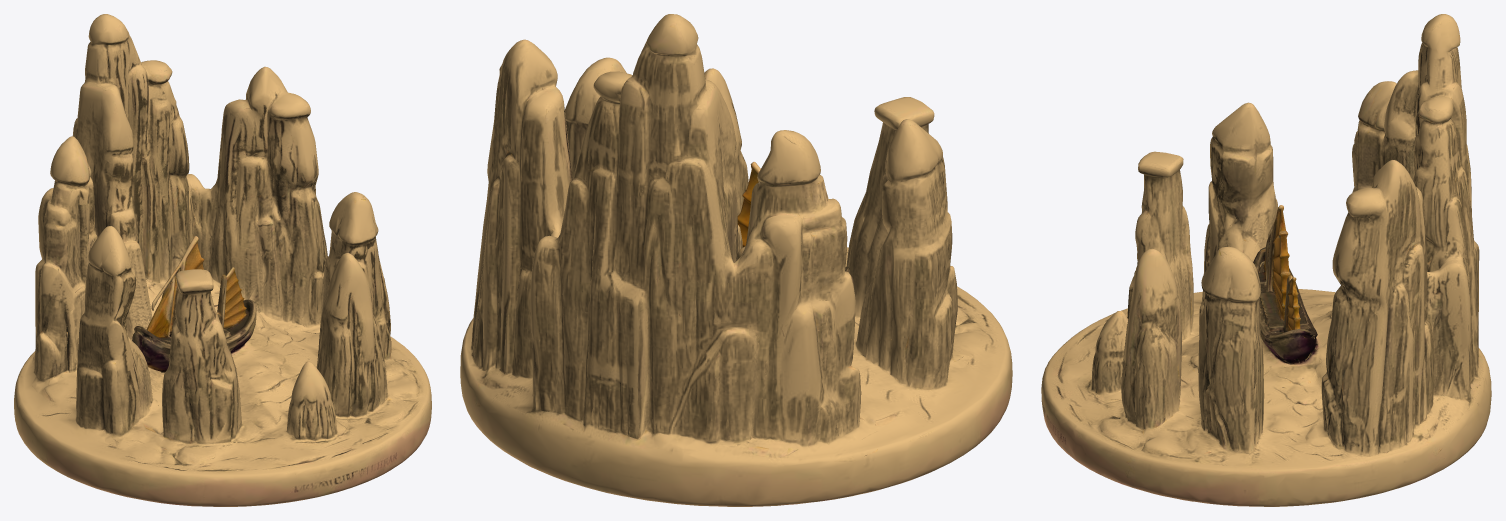
The model's file is halong_bay.glb.
The picture shows the model from 3 angles, left to right: view 1: azimuth 30°, elevation 25°; view 2: azimuth 150°, elevation 25°; view 3: azimuth 270°, elevation 25°; orthographic projection. The views are drawn at different scales.
Visible parts, largest first — view 1: Mesh_0; view 2: Mesh_0; view 3: Mesh_0.
Part boxes in pixels (box(x1,y1,x2,y2)): Mesh_0: box(14, 14, 431, 506); Mesh_0: box(460, 14, 1012, 506); Mesh_0: box(1041, 14, 1491, 506).
Bounding box in the file's own units: 1.89 × 1.77 × 1.9.
Materials: 1 (1 with a texture image).
